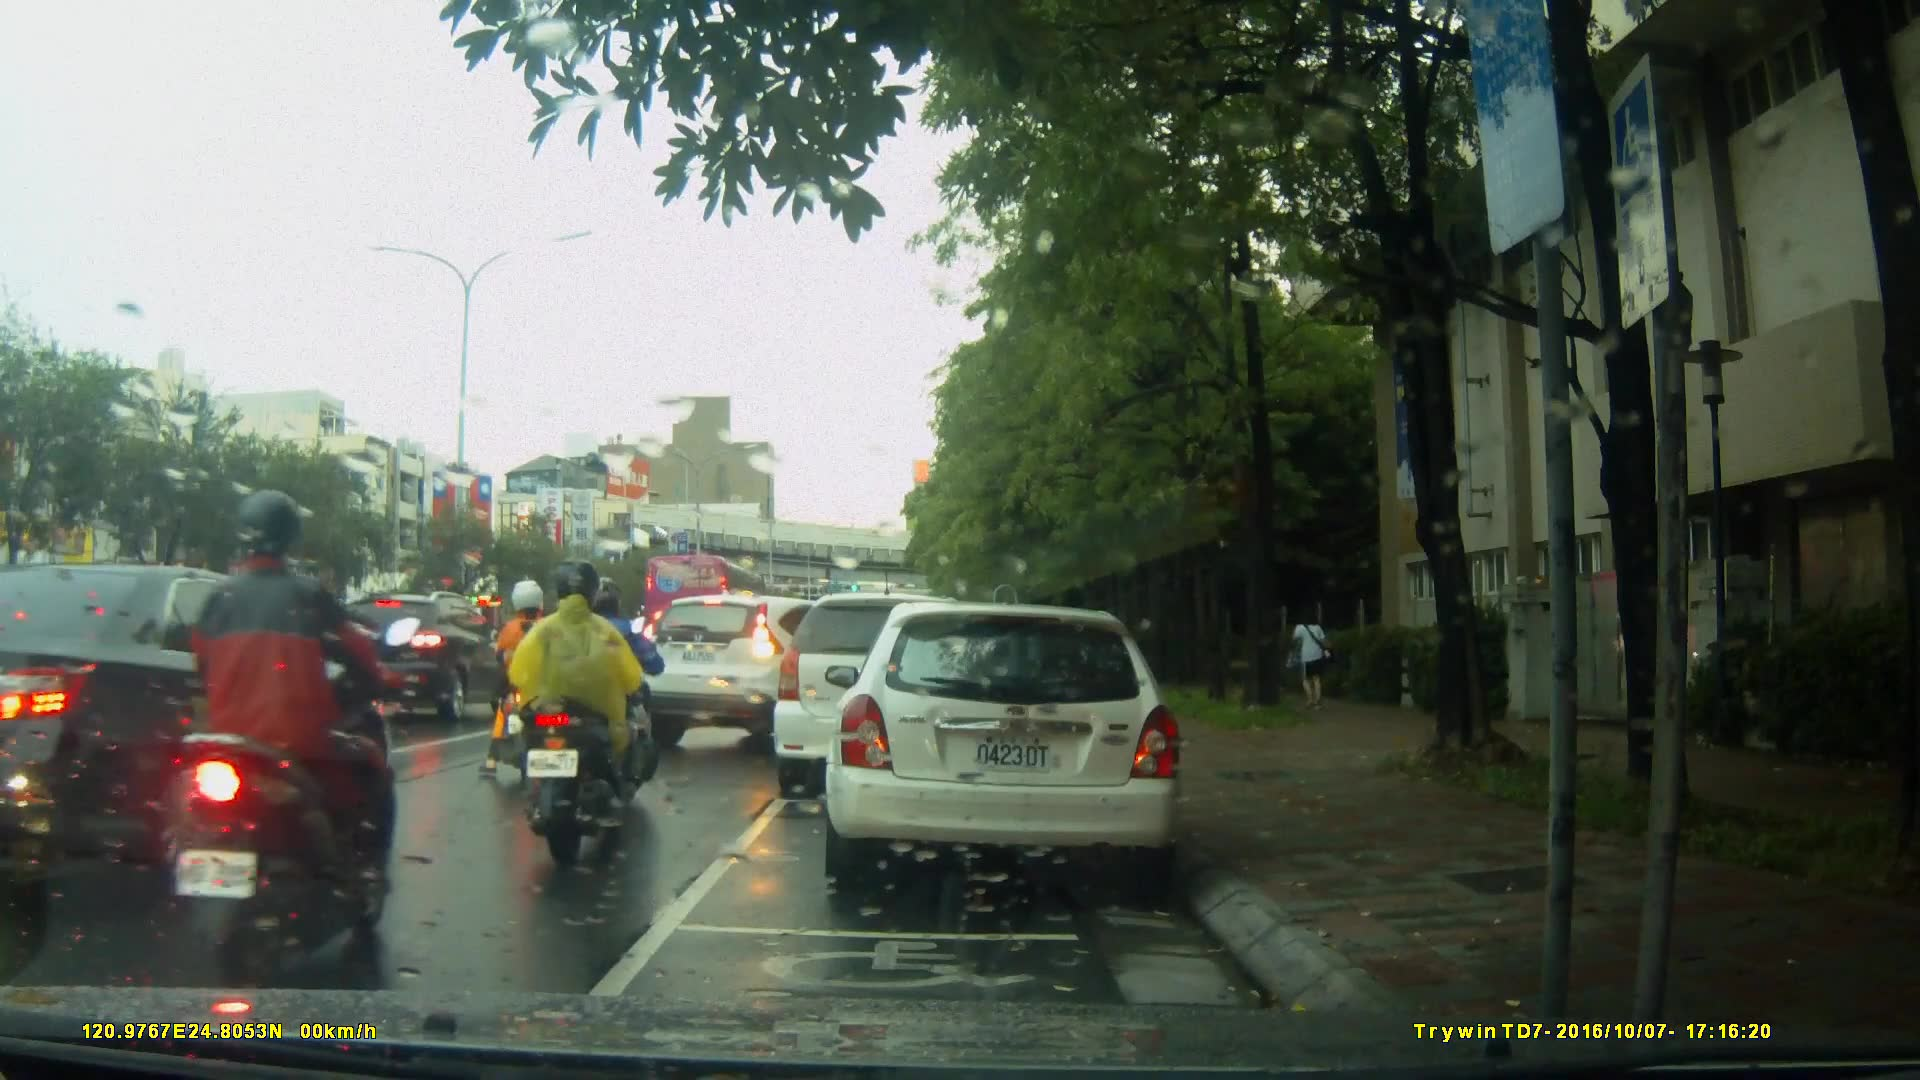pedestrian: (1284, 603, 1341, 721)
rider: (145, 499, 431, 980), (510, 568, 643, 859), (558, 572, 663, 817), (482, 579, 560, 794)
vehicle: (1, 559, 392, 901), (835, 594, 1194, 898), (776, 590, 1026, 784), (633, 589, 887, 758), (317, 589, 526, 724), (642, 552, 771, 640)
